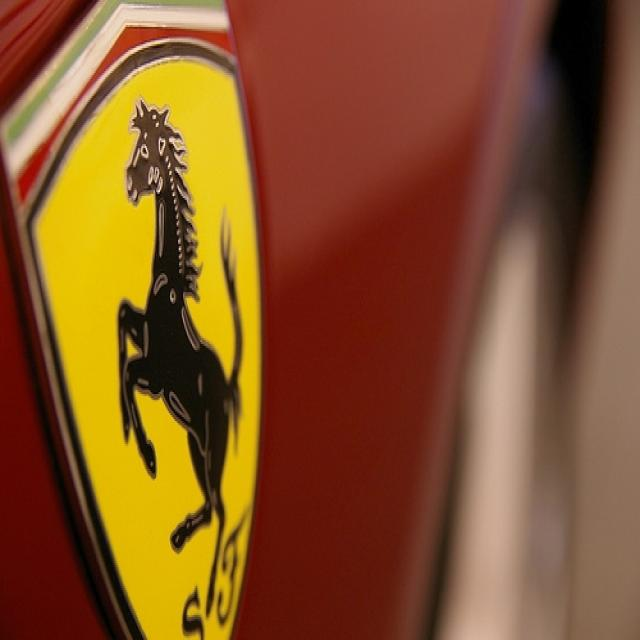ferrari: (3, 3, 268, 639)
